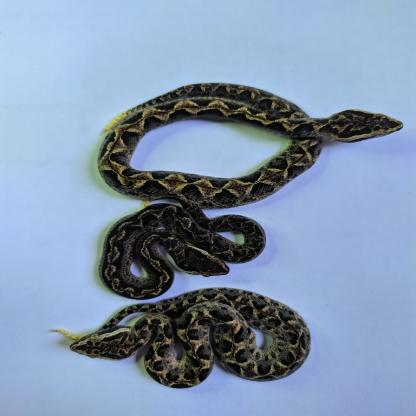Snake: (89, 78, 405, 212), (67, 286, 314, 388), (99, 205, 266, 297)
